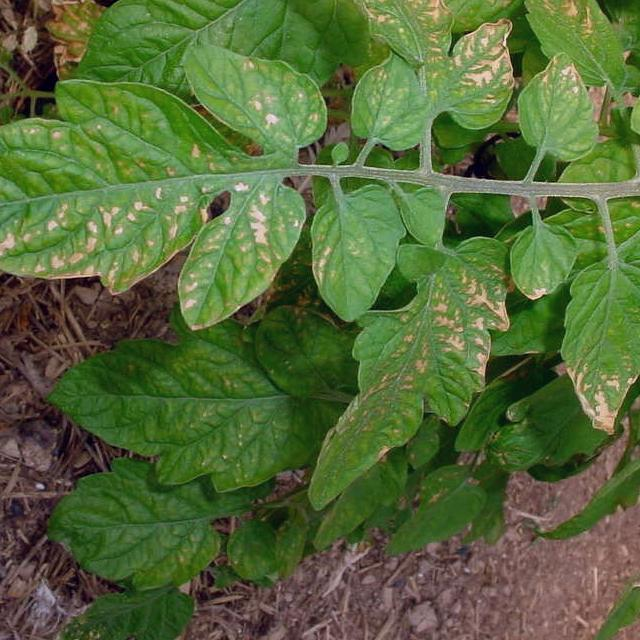Tomato leaf bacterial spot: (0, 66, 259, 317), (306, 197, 509, 513), (263, 0, 542, 157), (167, 167, 319, 348), (531, 241, 640, 463), (293, 175, 406, 323), (183, 48, 330, 157), (515, 55, 607, 188), (503, 209, 586, 308), (619, 1, 640, 156)
